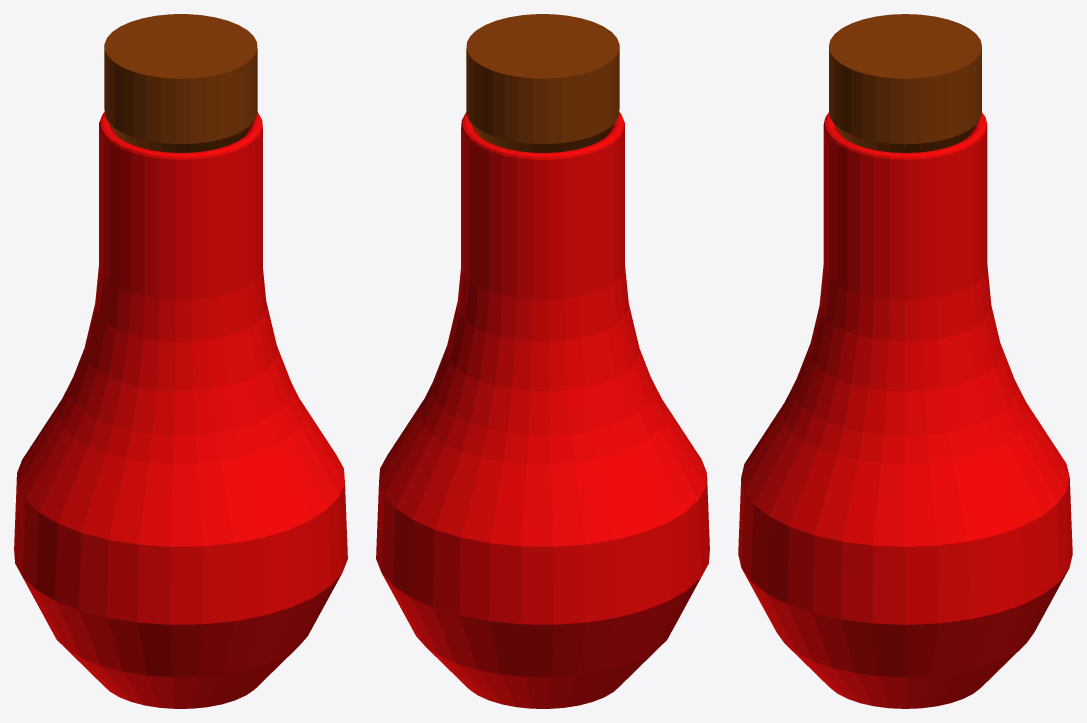
The model's file is potion.glb.
3 views of the same model, side by side, from view 1: azimuth 30°, elevation 25°; view 2: azimuth 150°, elevation 25°; view 3: azimuth 270°, elevation 25° (orthographic).
Parts seen in each view (by area): view 1: potion; view 2: potion; view 3: potion.
Boxes of the visible parts, box(x1,y1,x2,y2) form: potion: box(14, 14, 347, 708); potion: box(376, 14, 709, 708); potion: box(738, 14, 1072, 708).
Size of the model in its own units: 0.1284 by 0.2659 by 0.1284.
